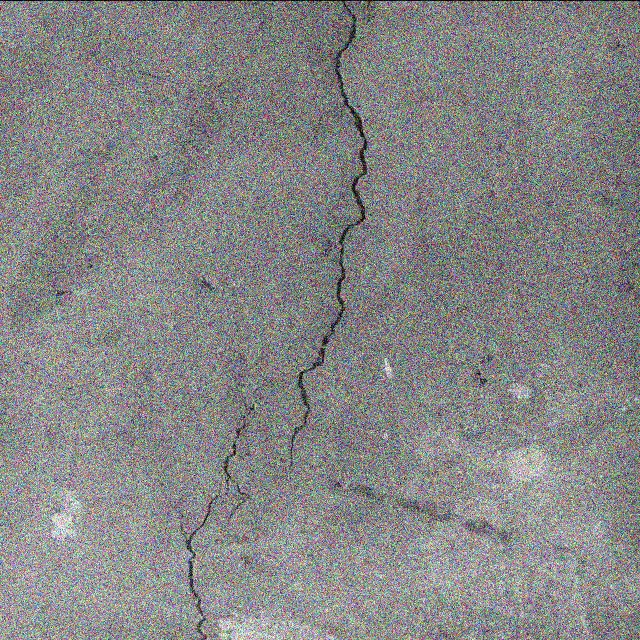SurfaceCrack: (257, 0, 403, 638)
